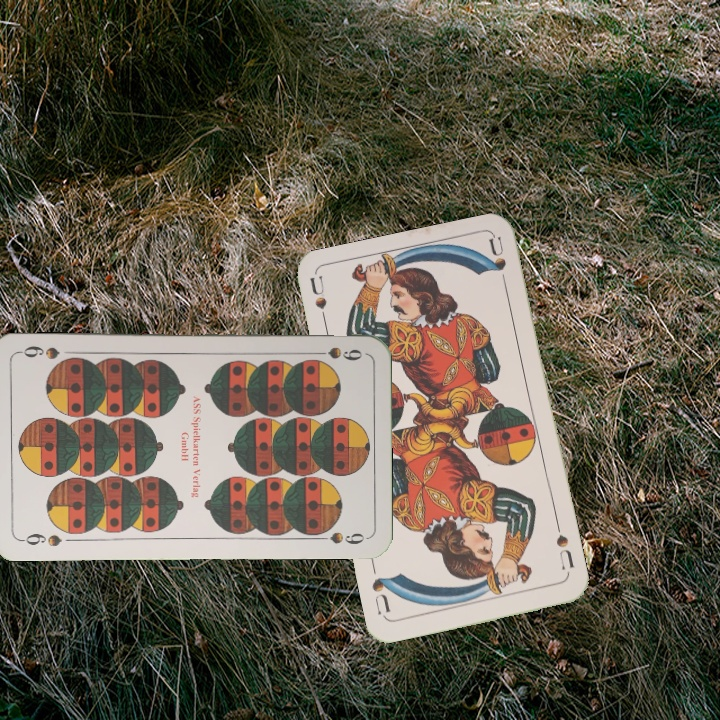S9: (306, 343, 365, 363), (17, 528, 64, 549)
SU: (306, 273, 331, 333), (552, 520, 577, 573)
